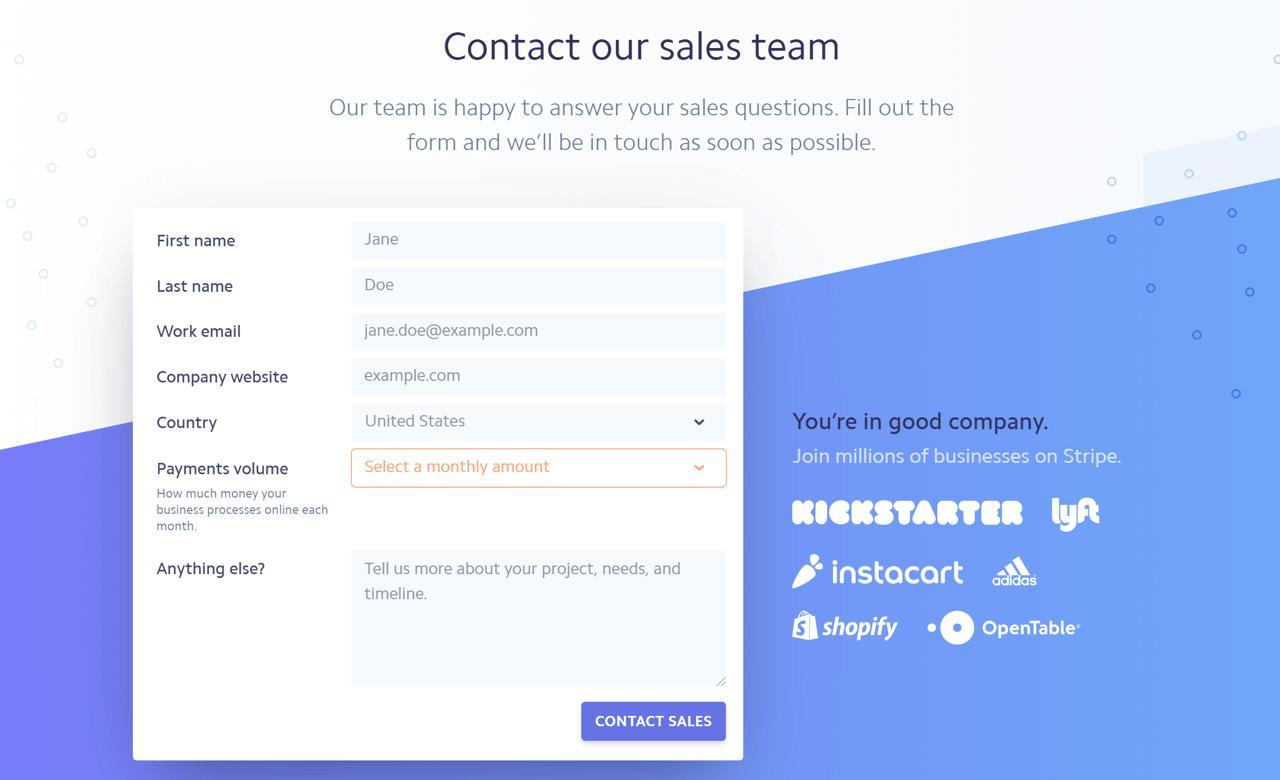button: (582, 702, 728, 742)
dropdown: (352, 405, 727, 448), (351, 448, 725, 489)
input: (349, 309, 727, 355), (350, 219, 732, 263), (350, 358, 726, 402), (352, 269, 730, 307)
label: (157, 559, 270, 582), (155, 370, 291, 389), (157, 462, 291, 478), (152, 278, 237, 301), (153, 322, 244, 343), (154, 233, 239, 252), (157, 413, 220, 436)
